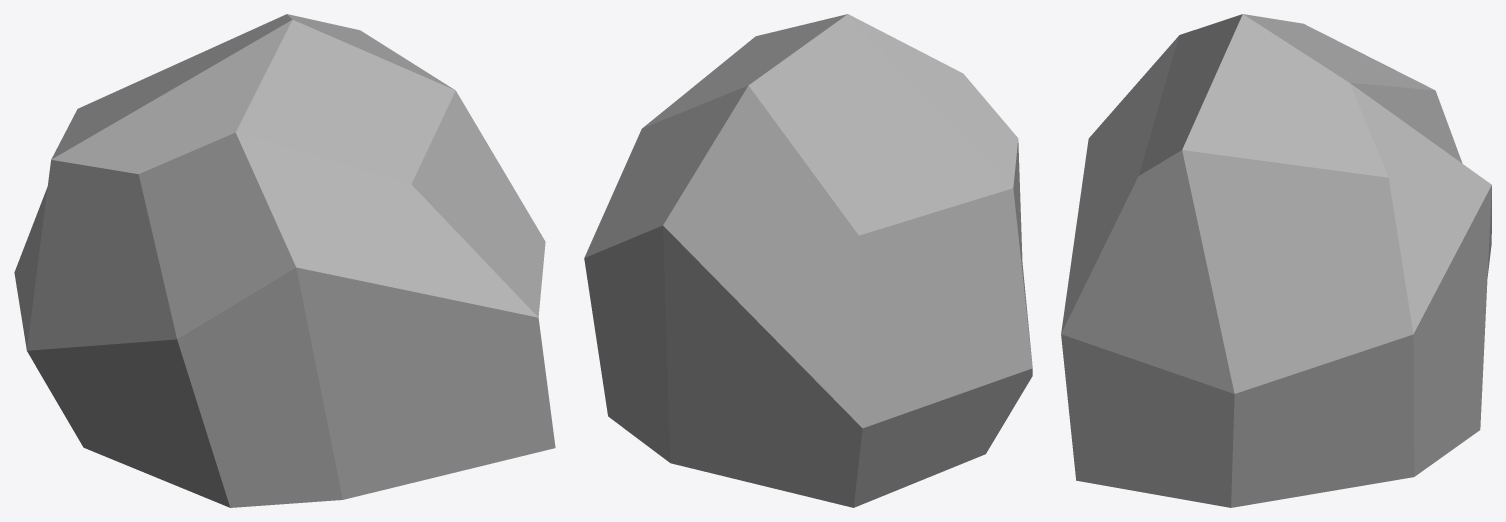
Rendered from rock_03.fbx.
The picture shows the model from 3 angles, left to right: view 1: azimuth 30°, elevation 25°; view 2: azimuth 150°, elevation 25°; view 3: azimuth 270°, elevation 25°; orthographic projection. The views are drawn at different scales.
Parts seen in each view (by area): view 1: Cube; view 2: Cube; view 3: Cube.
Part boxes in pixels (bbox=[...]): Cube: bbox=[14, 14, 555, 507]; Cube: bbox=[584, 14, 1032, 507]; Cube: bbox=[1061, 14, 1491, 507].
Size of the model in its own units: 293 by 237 by 240.
